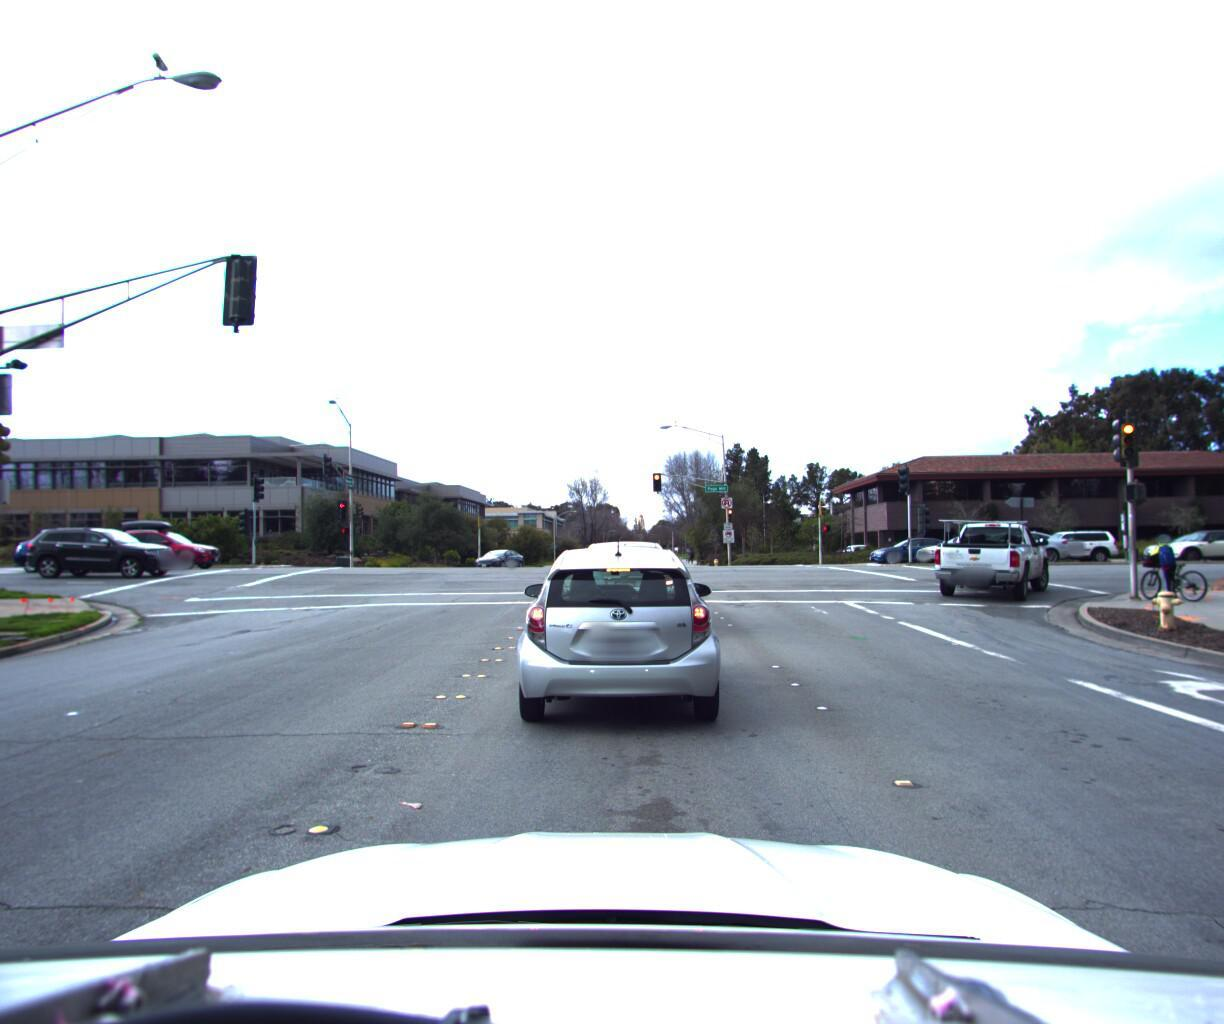bicycle: (1120, 526, 1217, 598)
car: (501, 537, 749, 742), (559, 537, 701, 646), (917, 511, 1061, 600), (17, 521, 192, 578), (3, 527, 143, 575), (102, 525, 233, 574), (944, 517, 1075, 564), (905, 524, 1019, 562), (1012, 523, 1126, 560), (858, 531, 969, 565), (1127, 525, 1224, 558), (1151, 521, 1224, 560), (470, 544, 529, 571)
truck: (0, 495, 15, 579)
